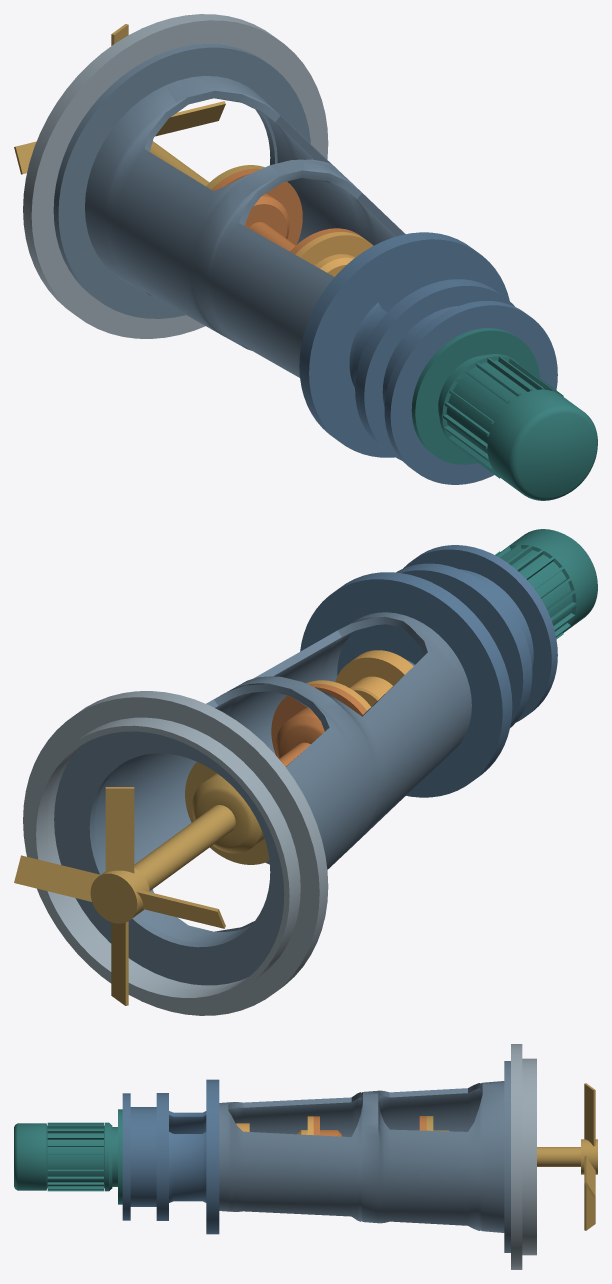
The model's file is 槽罐搅拌器_v0.2.obj.
3 views of the same model, one above another, from view 1: azimuth 30°, elevation 25°; view 2: azimuth 150°, elevation 25°; view 3: azimuth 270°, elevation 25° (orthographic). The views are drawn at different scales.
Parts seen in each view (by area): view 1: 06_Tapered_window_frame, 07_Tank_interface_rim, 01_Motor, 06_Frame_foot, 02_Base_flange_top, 02_Upper_mount_flange, 02_Middle_flange_top, 04_Lower_intermediate_shaft, 03_Upper_intermediate_shaft, 02_Base_flange_bottom, 02_Middle_flange_bottom, 05_Pitched_blade_1 (+3 smaller); view 2: 06_Tapered_window_frame, 07_Tank_interface_rim, 06_Frame_foot, 02_Base_flange_bottom, 07_Tank_interface_short_wall, 05_End_shaft, 02_Upper_mount_flange, 01_Motor, 02_Middle_flange_bottom, 04_Lower_intermediate_shaft, 03_Upper_intermediate_shaft, 05_Pitched_blade_2 (+7 smaller); view 3: 06_Tapered_window_frame, 01_Motor, 07_Tank_interface_short_wall, 07_Tank_interface_rim, 02_Upper_housing, 02_Lower_housing_1, 06_Frame_foot, 02_Base_flange_bottom, 02_Upper_mount_flange, 02_Base_flange_top, 05_End_shaft, 02_Middle_flange_top (+7 smaller).
Boxes of the visible parts, x1,y1,x2,y2 form: 06_Tapered_window_frame: [85, 76, 405, 377]; 07_Tank_interface_rim: [23, 14, 328, 338]; 01_Motor: [411, 328, 597, 500]; 06_Frame_foot: [53, 44, 310, 318]; 02_Base_flange_top: [304, 236, 509, 457]; 02_Upper_mount_flange: [384, 301, 557, 484]; 02_Middle_flange_top: [359, 282, 514, 460]; 04_Lower_intermediate_shaft: [211, 168, 362, 254]; 03_Upper_intermediate_shaft: [295, 232, 373, 276]; 02_Base_flange_bottom: [299, 232, 473, 437]; 02_Middle_flange_bottom: [355, 279, 496, 448]; 05_Pitched_blade_1: [155, 101, 225, 136]; 06_Tapered_window_frame: [94, 612, 471, 943]; 07_Tank_interface_rim: [23, 691, 328, 1015]; 06_Frame_foot: [54, 731, 284, 985]; 02_Base_flange_bottom: [300, 575, 507, 797]; 07_Tank_interface_short_wall: [30, 717, 300, 1003]; 05_End_shaft: [100, 762, 269, 912]; 02_Upper_mount_flange: [403, 545, 557, 722]; 01_Motor: [505, 529, 597, 632]; 02_Middle_flange_bottom: [397, 567, 527, 726]; 04_Lower_intermediate_shaft: [271, 683, 366, 766]; 03_Upper_intermediate_shaft: [306, 650, 413, 710]; 05_Pitched_blade_2: [105, 787, 134, 873]; 06_Tapered_window_frame: [219, 1081, 504, 1232]; 01_Motor: [14, 1109, 122, 1204]; 07_Tank_interface_short_wall: [522, 1058, 536, 1255]; 07_Tank_interface_rim: [511, 1044, 522, 1269]; 02_Upper_housing: [130, 1107, 156, 1206]; 02_Lower_housing_1: [169, 1132, 206, 1202]; 06_Frame_foot: [504, 1061, 510, 1252]; 02_Base_flange_bottom: [212, 1079, 219, 1234]; 02_Upper_mount_flange: [122, 1093, 130, 1220]; 02_Base_flange_top: [206, 1079, 212, 1234]; 05_End_shaft: [426, 1116, 580, 1166]; 02_Middle_flange_top: [156, 1093, 162, 1220].
Size of the model in its own units: 0.9096 by 0.9096 by 2.35.
